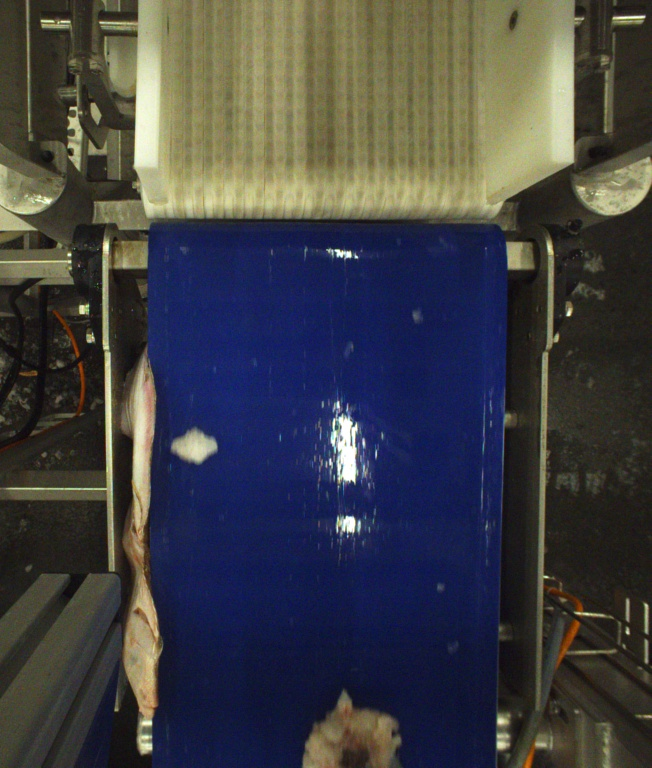ANF: (304, 690, 400, 768)
